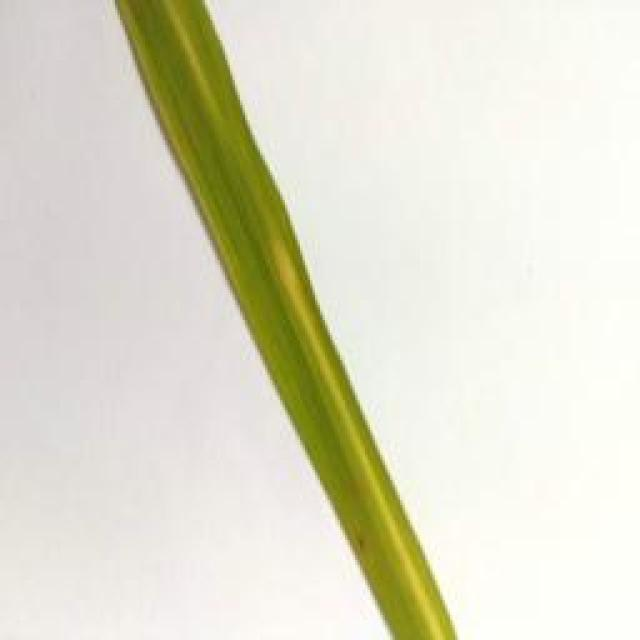Brown_Spot: (256, 184, 553, 640), (310, 512, 398, 583)
